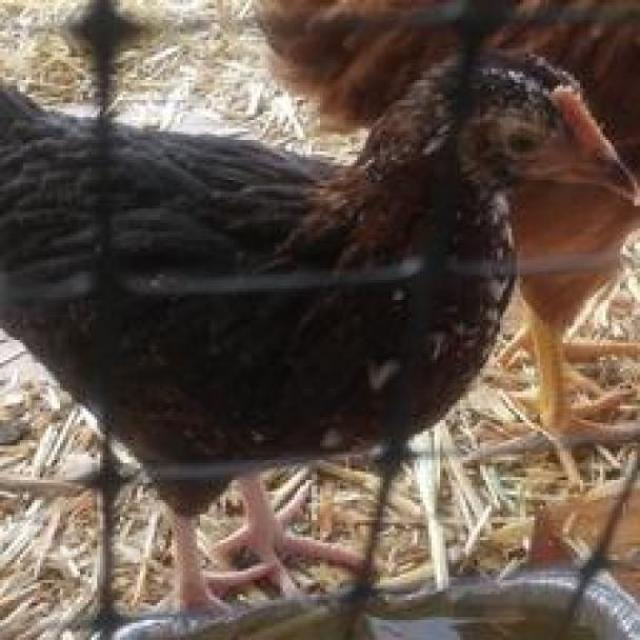Chicken: (0, 42, 636, 598)
